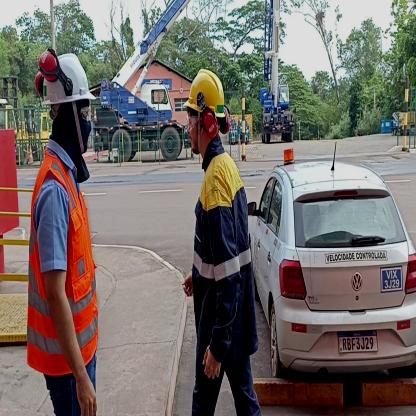Balaclava: (52, 102, 93, 154)
C_eletrica: (179, 105, 272, 416), (191, 150, 261, 361)
Capacete: (34, 47, 95, 99), (183, 68, 229, 117)
colete: (32, 161, 99, 367)
